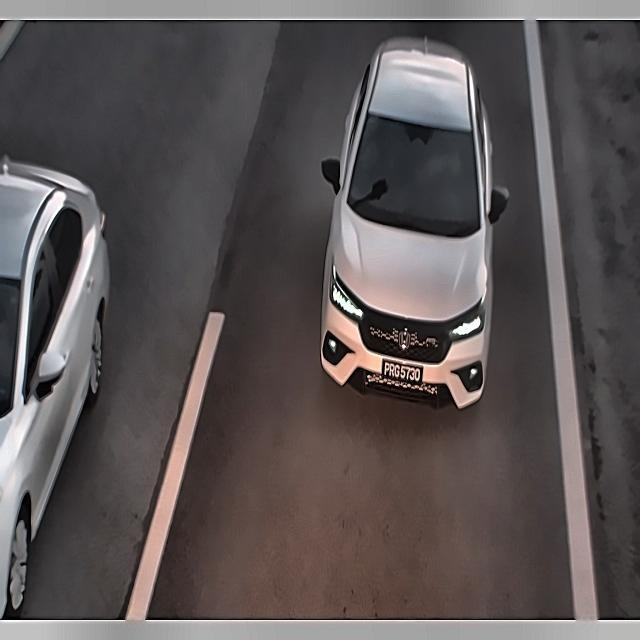car: (378, 353, 429, 390)
